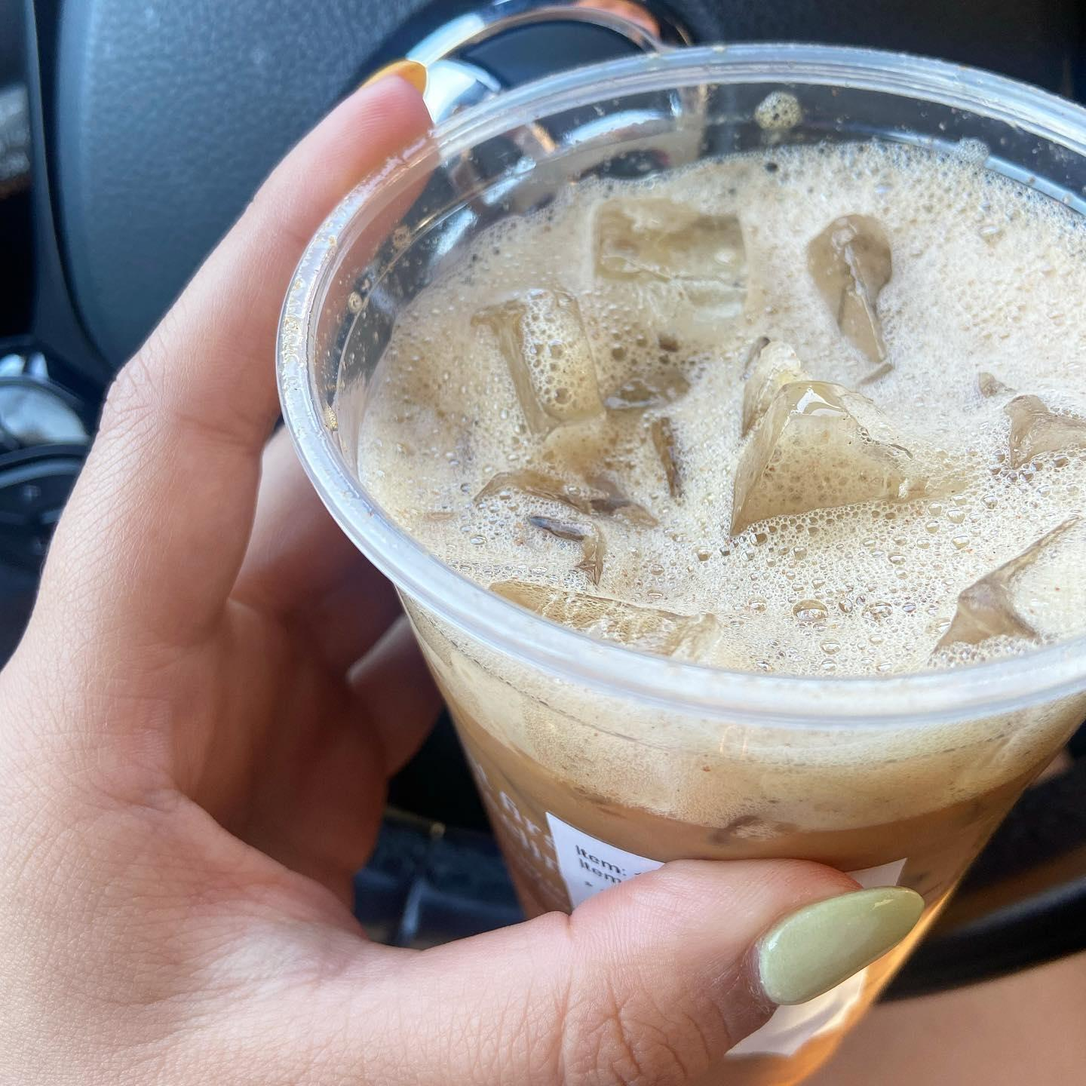cup-disposable: (260, 18, 1086, 1086)
